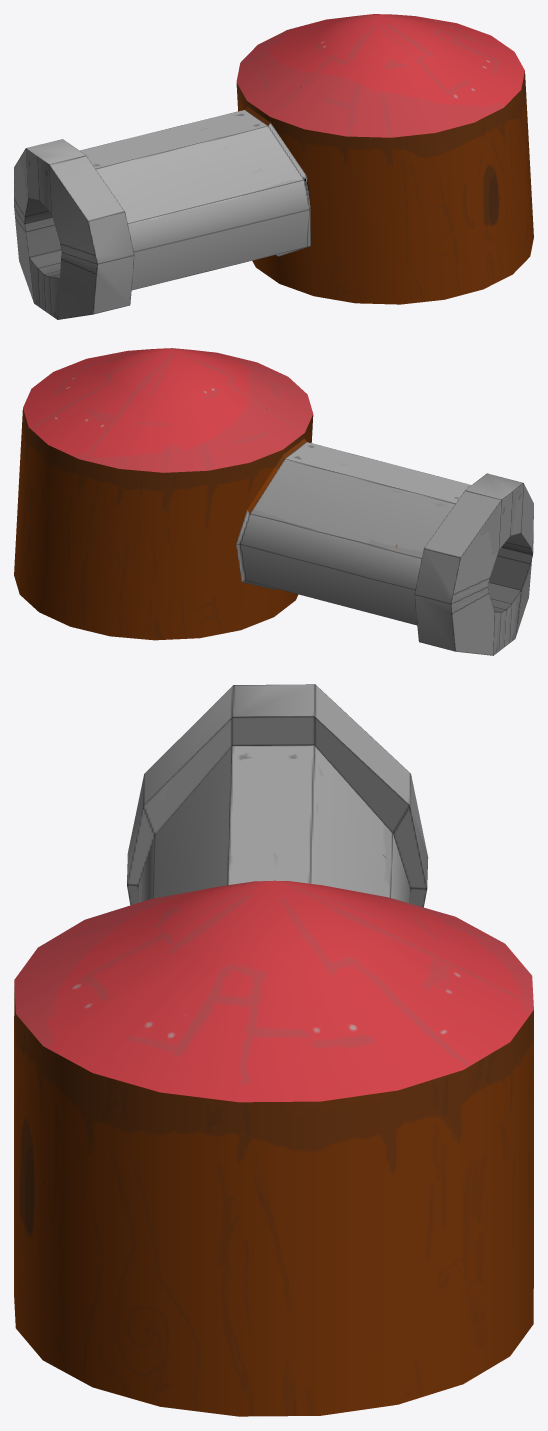
File: Red Gun Head.fbx
3 renders of one model, top to bottom at view 1: azimuth 30°, elevation 25°; view 2: azimuth 150°, elevation 25°; view 3: azimuth 270°, elevation 25°, orthographic. The views are drawn at different scales.
Visible parts, largest first — view 1: pPlane2; view 2: pPlane2; view 3: pPlane2.
Boxes of the visible parts, bbox=[...] form: pPlane2: bbox=[14, 14, 533, 319]; pPlane2: bbox=[14, 348, 533, 655]; pPlane2: bbox=[14, 684, 533, 1416].
Bounding box in the file's own units: 11.54 × 5.36 × 6.02.
1 material, 1 textured.
